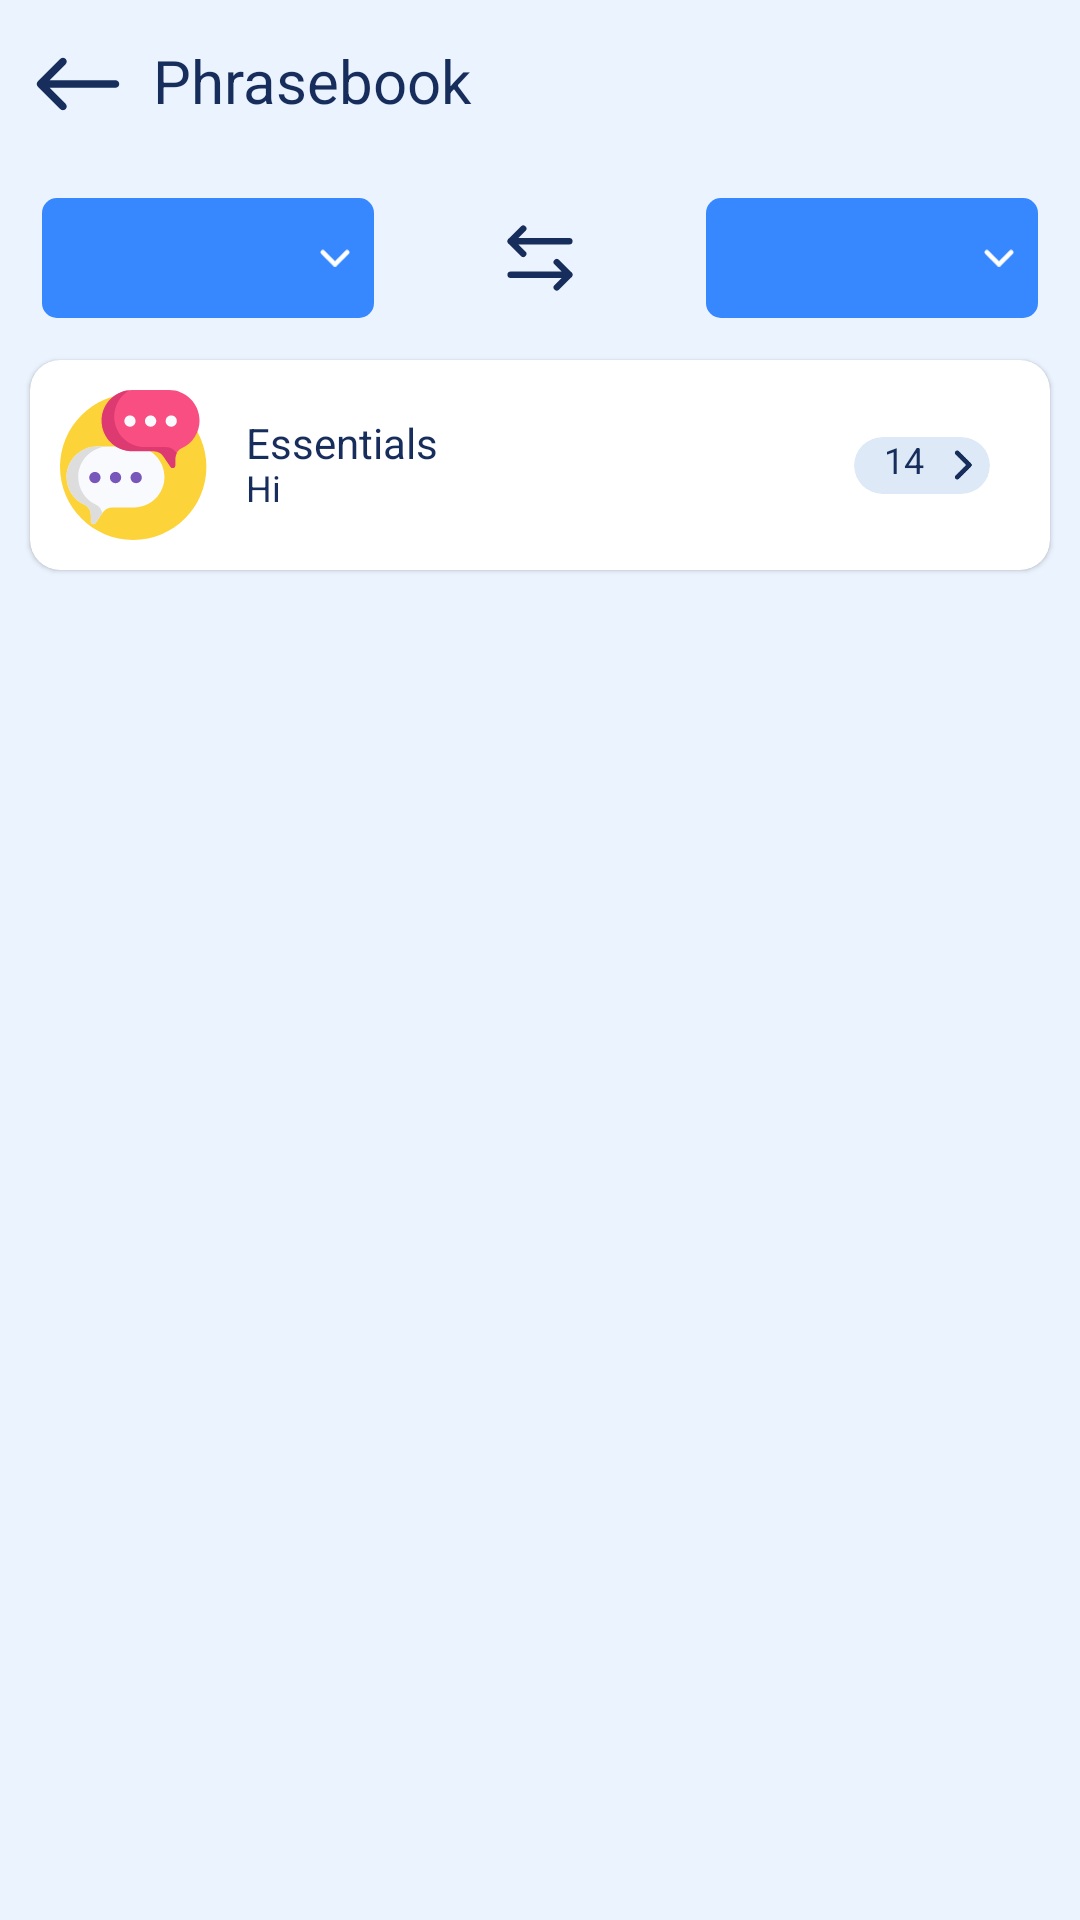

Icon click points for this 1080 x 1920 phone screenshot, format (x,y):
chat: (133,465)
left arrow: (78,84)
